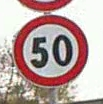limite 50: (11, 13, 87, 88)
